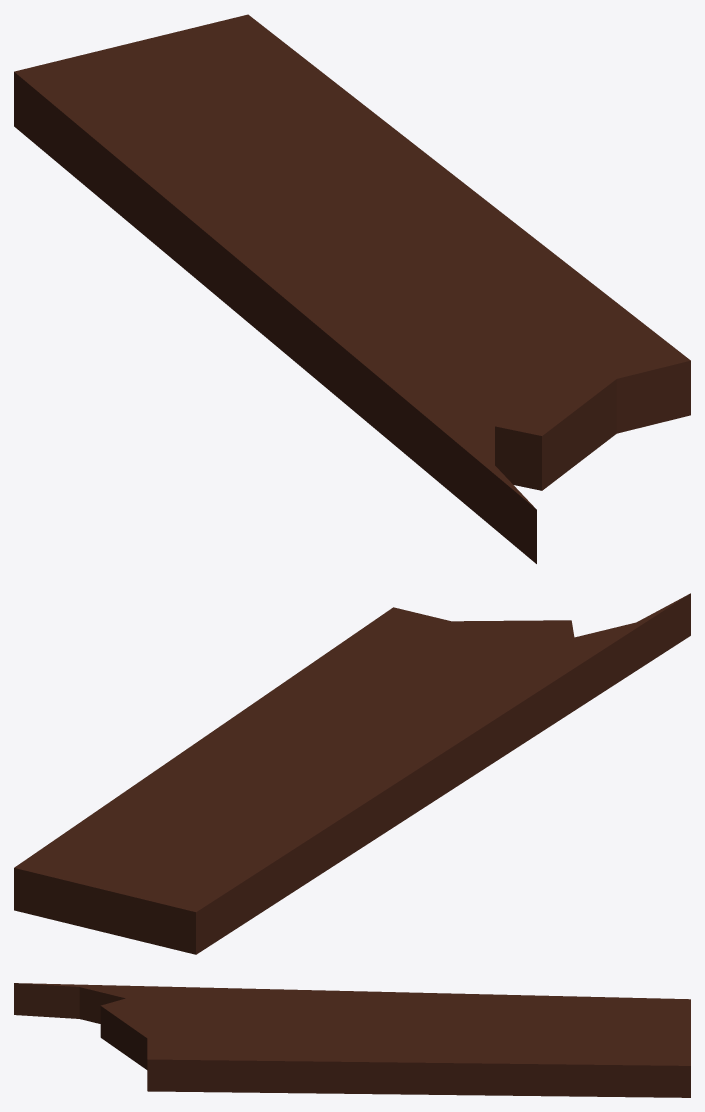
Rendered from broke_box3.fbx.
3 renders of one model, top to bottom at view 1: azimuth 30°, elevation 25°; view 2: azimuth 150°, elevation 25°; view 3: azimuth 270°, elevation 25°, orthographic. The views are drawn at different scales.
Visible parts, largest first — view 1: Cube.002; view 2: Cube.002; view 3: Cube.002.
Boxes of the visible parts, left/top/right/bottom form: Cube.002: left=14, top=14, right=690, bottom=563; Cube.002: left=14, top=593, right=690, bottom=954; Cube.002: left=14, top=983, right=690, bottom=1097.
Size of the model in its own units: 26.24 by 4.72 by 90.54.
